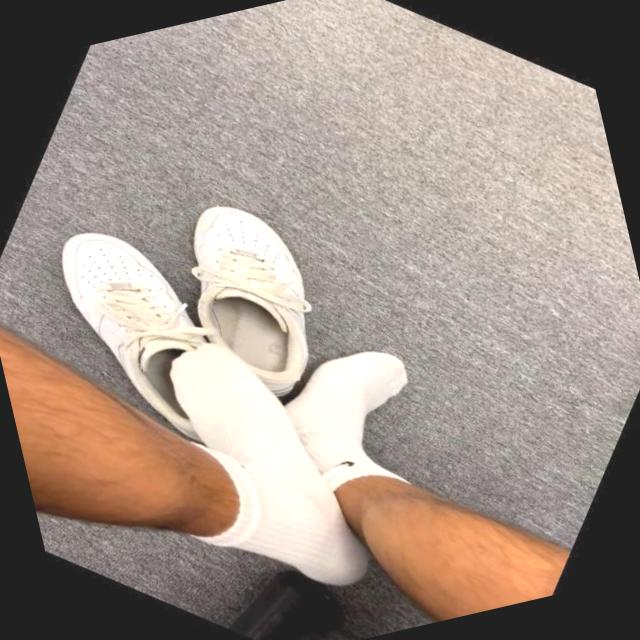nike_original_airforce: (0, 185, 280, 470), (102, 156, 384, 438)
